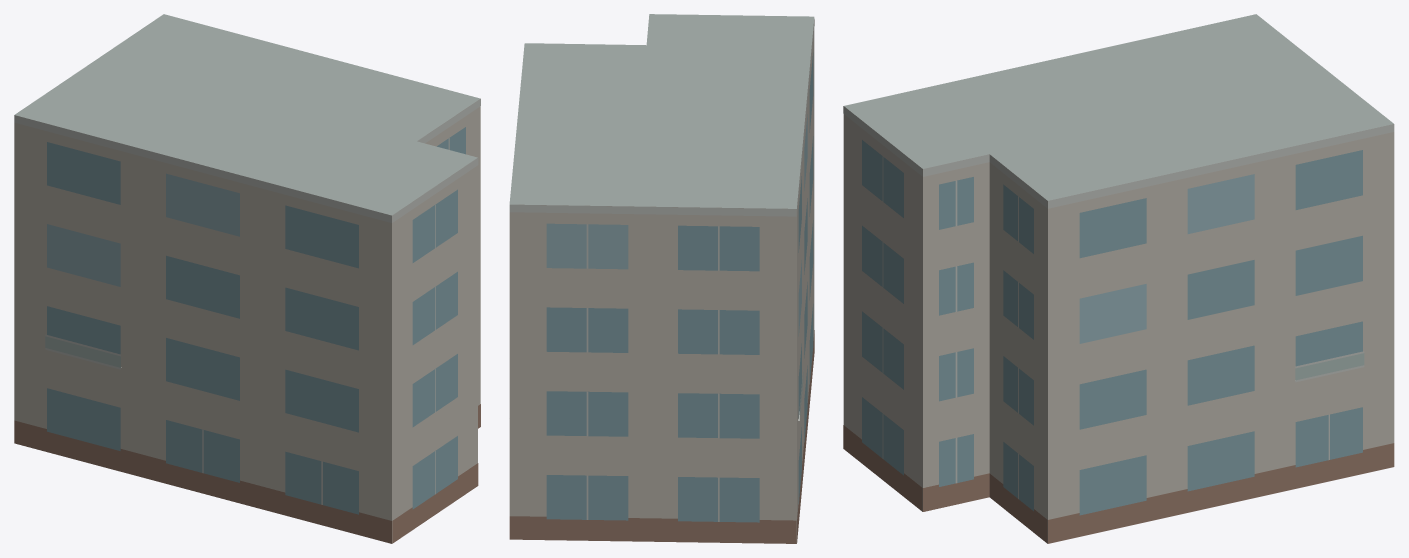
File: survey-upis-32930129.glb
3 renders of one model, left to right at view 1: azimuth 30°, elevation 25°; view 2: azimuth 150°, elevation 25°; view 3: azimuth 270°, elevation 25°, orthographic. The views are drawn at different scales.
Visible parts, largest first — view 1: survey-upis-32930129.tmp; view 2: survey-upis-32930129.tmp; view 3: survey-upis-32930129.tmp.
Part boxes in pixels (bbox=[...]): survey-upis-32930129.tmp: bbox=[14, 14, 480, 543]; survey-upis-32930129.tmp: bbox=[509, 14, 814, 543]; survey-upis-32930129.tmp: bbox=[843, 14, 1394, 543].
Bounding box in the file's own units: 12.4 × 10.6 × 15.44.
